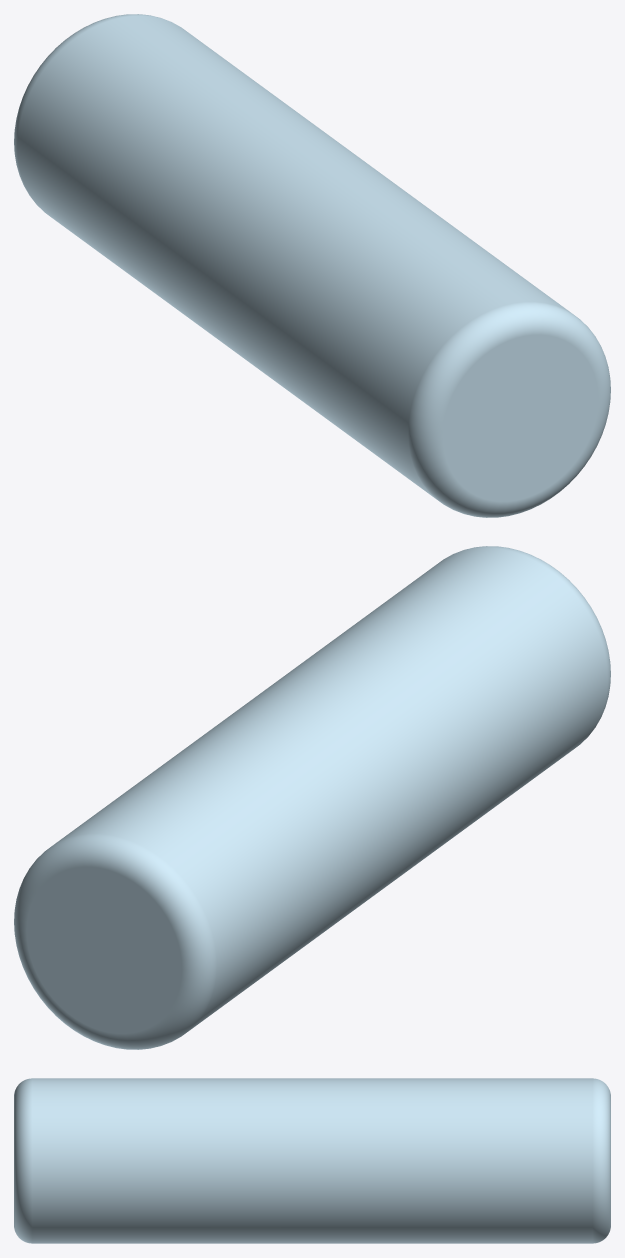
Rendered from cell.gltf.
3 views of the same model, one above another, from view 1: azimuth 30°, elevation 25°; view 2: azimuth 150°, elevation 25°; view 3: azimuth 270°, elevation 25° (orthographic). The views are drawn at different scales.
Visible parts, largest first — view 1: mesh1505, mesh1503, mesh1504, mesh1506; view 2: mesh1505, mesh1507, mesh1506, mesh1504; view 3: mesh1505, mesh1504, mesh1506.
Part boxes in pixels (<box>): mesh1505: <box>17,16,570,497</box>; mesh1503: <box>443,335,598,501</box>; mesh1504: <box>408,301,610,517</box>; mesh1506: <box>14,14,172,207</box>; mesh1505: <box>54,548,607,1029</box>; mesh1507: <box>26,867,181,1033</box>; mesh1506: <box>14,833,216,1049</box>; mesh1504: <box>452,546,610,739</box>; mesh1505: <box>32,1078,592,1243</box>; mesh1504: <box>14,1078,32,1243</box>; mesh1506: <box>592,1078,610,1243</box>.
Bounding box in the file's own units: 0.018 × 0.018 × 0.065.
